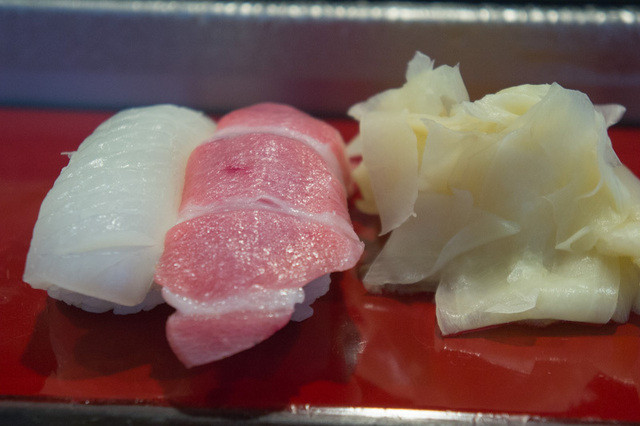medium_fatty_tuna: (167, 102, 358, 362)
